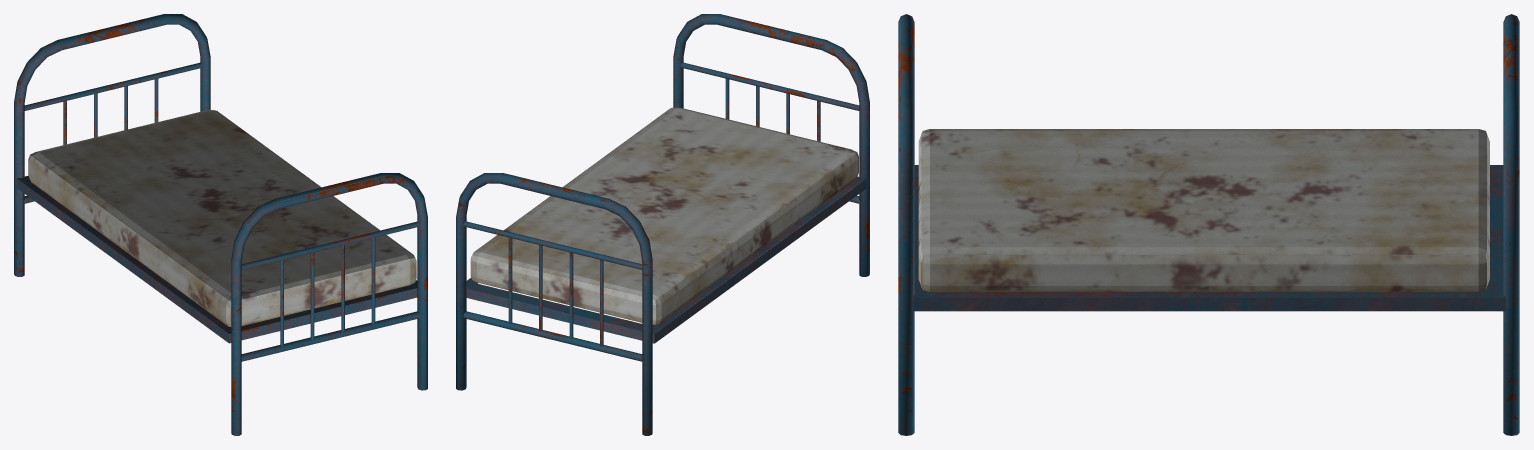
The model's file is old_bed.obj.
3 views of the same model, side by side, from view 1: azimuth 30°, elevation 25°; view 2: azimuth 150°, elevation 25°; view 3: azimuth 270°, elevation 25° (orthographic). The views are drawn at different scales.
Parts seen in each view (by area): view 1: obj1; view 2: obj1; view 3: obj1.
Boxes of the visible parts, x1,y1,x2,y2 form: obj1: [14, 14, 427, 435]; obj1: [456, 14, 869, 435]; obj1: [898, 14, 1519, 435].
Size of the model in its own units: 1.1 by 1.21 by 2.17.
1 material, 1 textured.
